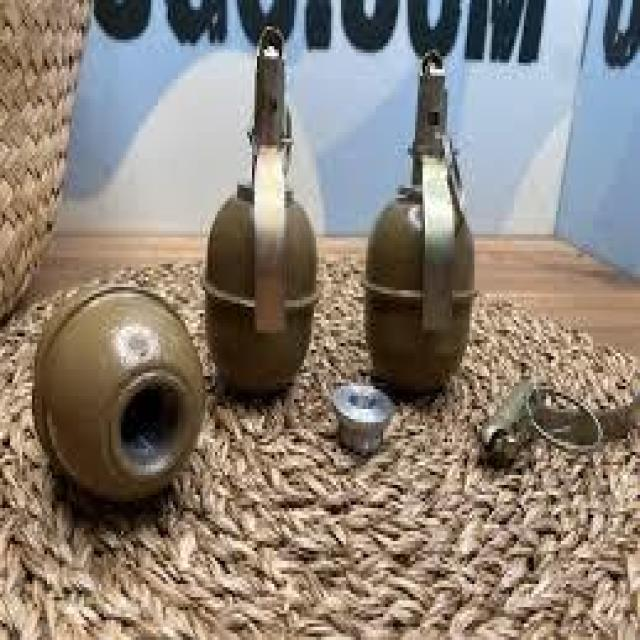grenade: (21, 242, 206, 510), (202, 23, 338, 386), (357, 44, 488, 391), (483, 358, 626, 473)
